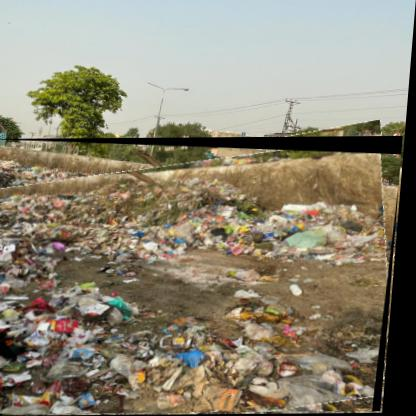Garbage: (1, 138, 407, 416)
